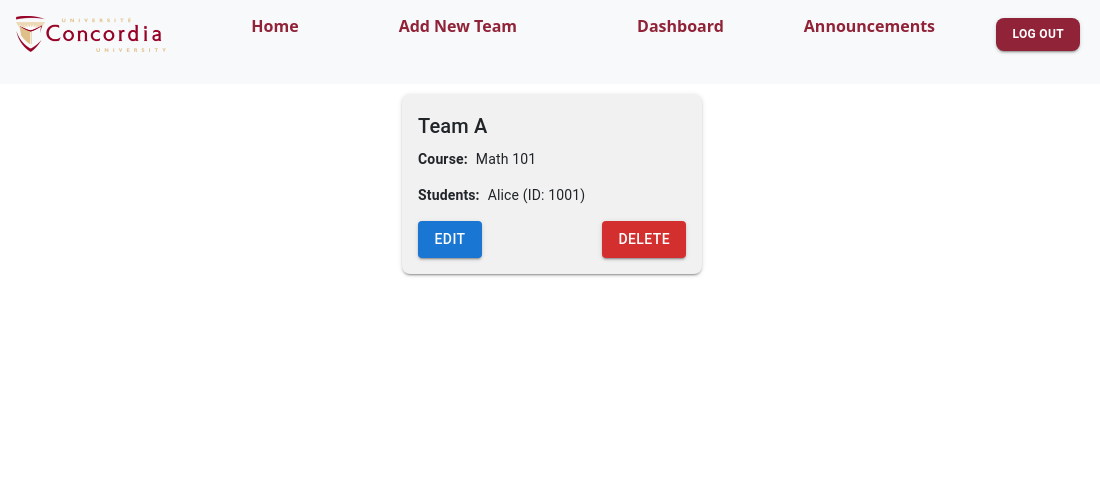
Test: Teams Page › allows a teacher to edit a team
expect the heading "Team A" is shown: met, box [418,114,488,138]
Click the button "Edit".
click(450, 239)  # box [418,221,482,258]
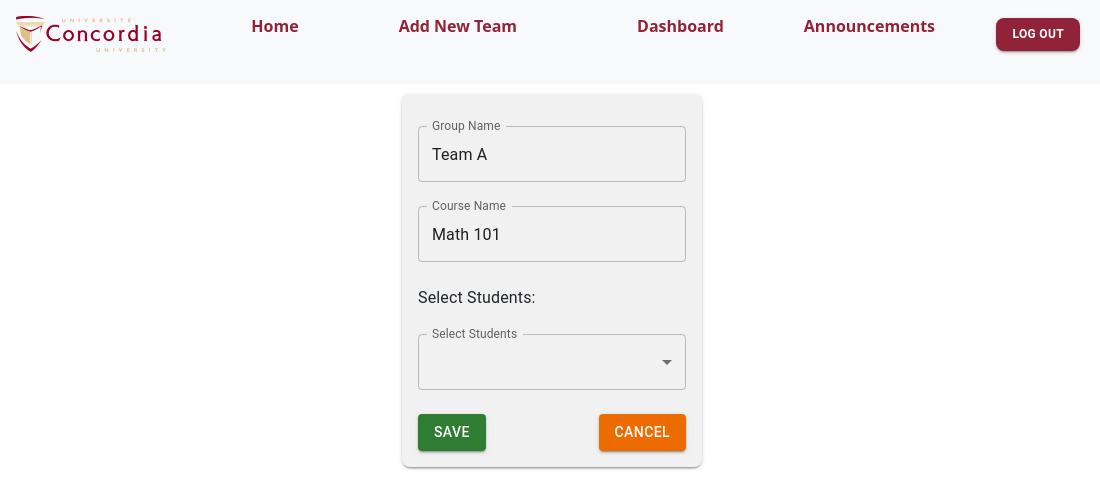
Replace the text in the field labelled "Group Name" with "Updated Team A" at x=552, y=154, box [418,126,686,182]
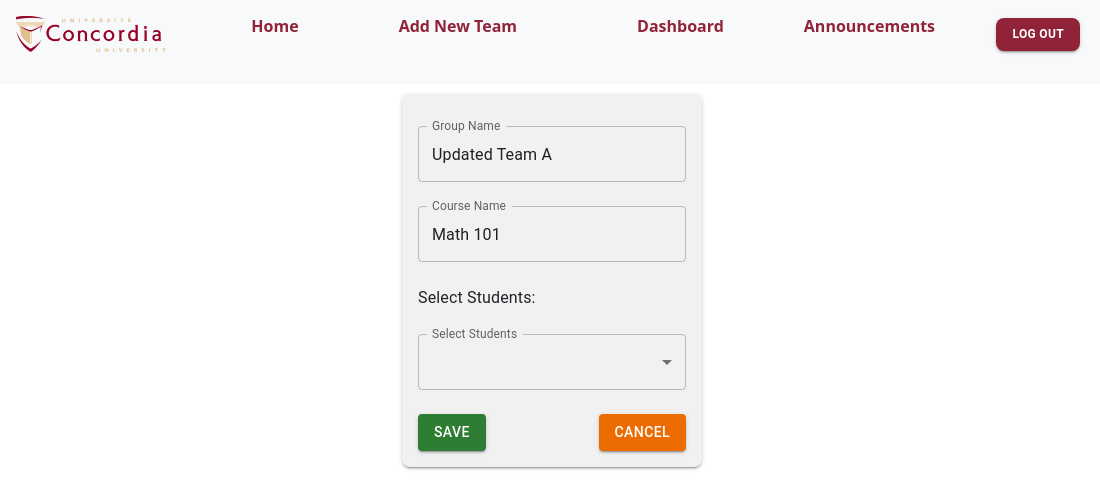
Click the button "Save".
click(452, 432)  # box [418,414,486,450]
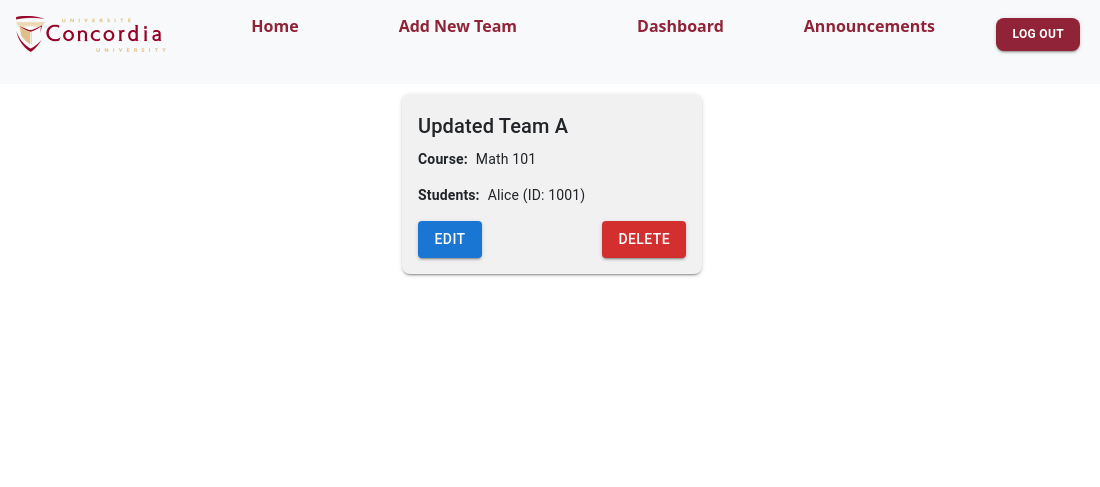
expect the heading "Updated Team A" is shown: met, box [418,114,568,138]
